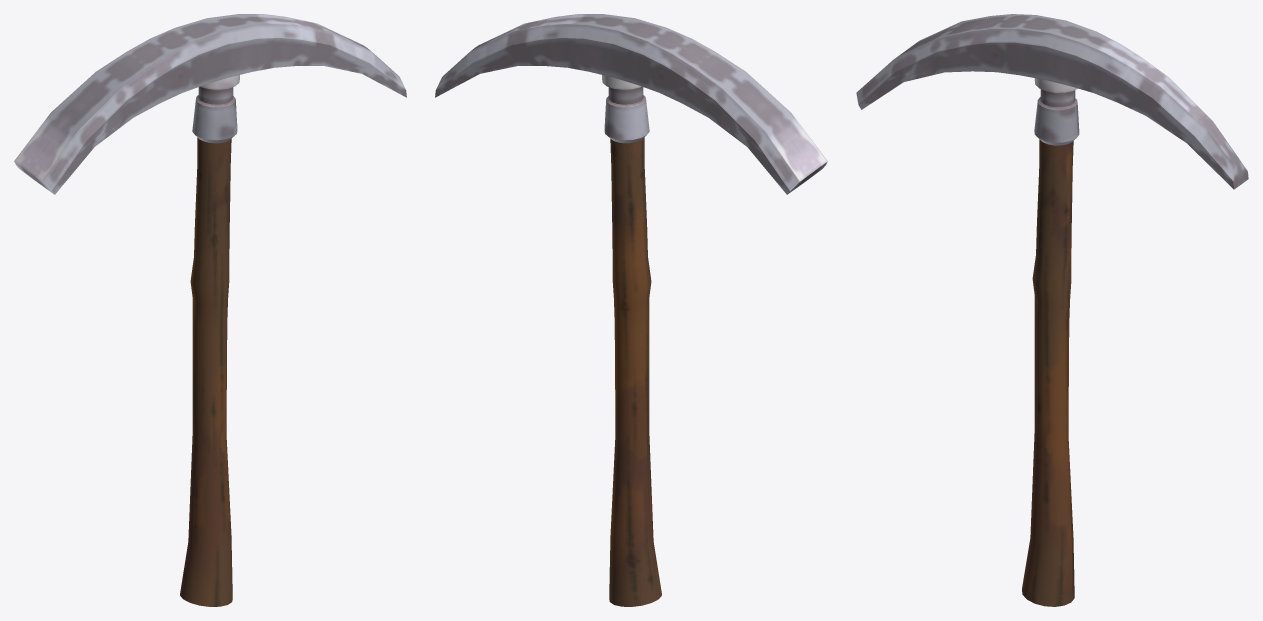
3 views of the same model, side by side, from view 1: azimuth 30°, elevation 25°; view 2: azimuth 150°, elevation 25°; view 3: azimuth 330°, elevation 25° (orthographic).
Parts seen in each view (by area): view 1: 07f83272cd508b9654a4521d48dbf3e5ae515f8eca44fc3f7ff72f08aa40; view 2: 07f83272cd508b9654a4521d48dbf3e5ae515f8eca44fc3f7ff72f08aa40; view 3: 07f83272cd508b9654a4521d48dbf3e5ae515f8eca44fc3f7ff72f08aa40.
Part boxes in pixels (box(x1,y1,x2,y2)): 07f83272cd508b9654a4521d48dbf3e5ae515f8eca44fc3f7ff72f08aa40: box(14, 14, 406, 606); 07f83272cd508b9654a4521d48dbf3e5ae515f8eca44fc3f7ff72f08aa40: box(435, 14, 827, 606); 07f83272cd508b9654a4521d48dbf3e5ae515f8eca44fc3f7ff72f08aa40: box(856, 14, 1248, 606).
Bounding box in the file's own units: 0.8129 × 1.2 × 0.1357.
1 material, 1 textured.
